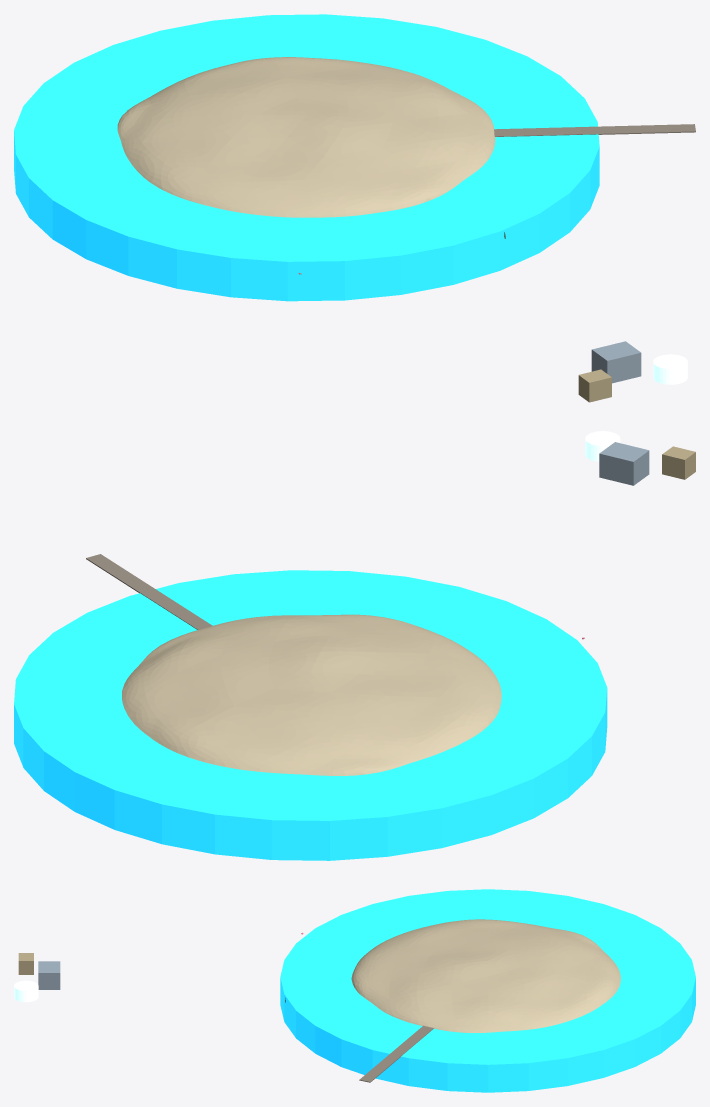
The model's file is Island_WaterCaves.fbx.
The picture shows the model from 3 angles, top to bottom: view 1: azimuth 30°, elevation 25°; view 2: azimuth 150°, elevation 25°; view 3: azimuth 270°, elevation 25°; orthographic projection. The views are drawn at different scales.
Parts seen in each view (by area): view 1: WATER_WaterCaves, TERRAIN_WaterCaves, BRIDGE_WaterCaves_to_AirPeaks, LAB_BUILDING, HEALER_CENTER, SHOP_BUILDING; view 2: WATER_WaterCaves, TERRAIN_WaterCaves, LAB_BUILDING, BRIDGE_WaterCaves_to_AirPeaks, SHOP_BUILDING, HEALER_CENTER; view 3: WATER_WaterCaves, TERRAIN_WaterCaves, BRIDGE_WaterCaves_to_AirPeaks, LAB_BUILDING, HEALER_CENTER, SHOP_BUILDING.
Boxes of the visible parts, x1,y1,x2,y2 form: WATER_WaterCaves: [14, 14, 599, 301]; TERRAIN_WaterCaves: [117, 57, 495, 217]; BRIDGE_WaterCaves_to_AirPeaks: [494, 124, 695, 136]; LAB_BUILDING: [591, 341, 641, 383]; HEALER_CENTER: [653, 354, 687, 384]; SHOP_BUILDING: [578, 369, 611, 402]; WATER_WaterCaves: [14, 570, 607, 860]; TERRAIN_WaterCaves: [122, 614, 501, 775]; LAB_BUILDING: [599, 442, 649, 485]; BRIDGE_WaterCaves_to_AirPeaks: [86, 554, 212, 629]; SHOP_BUILDING: [662, 446, 695, 479]; HEALER_CENTER: [585, 431, 620, 461]; WATER_WaterCaves: [280, 889, 695, 1092]; TERRAIN_WaterCaves: [351, 919, 620, 1032]; BRIDGE_WaterCaves_to_AirPeaks: [359, 1025, 433, 1082]; LAB_BUILDING: [38, 961, 60, 989]; HEALER_CENTER: [14, 980, 38, 1002]; SHOP_BUILDING: [18, 953, 33, 974].
Size of the model in its own units: 297 by 32.08 by 443.
